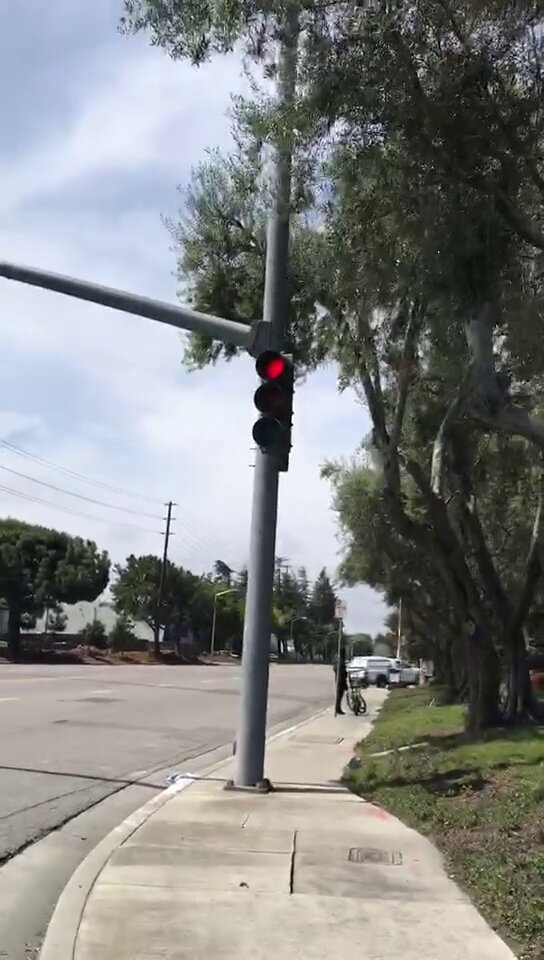red_light: (254, 346, 293, 458)
